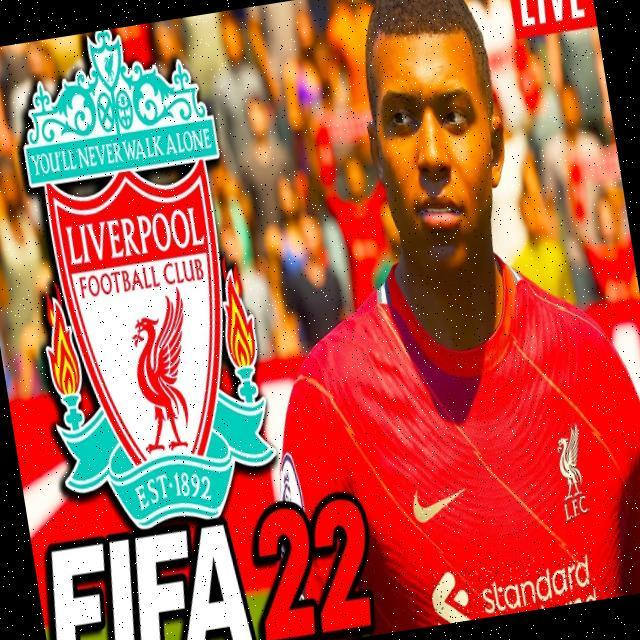Nike: (411, 483, 473, 526)
Standard Chartered: (429, 549, 599, 626)
